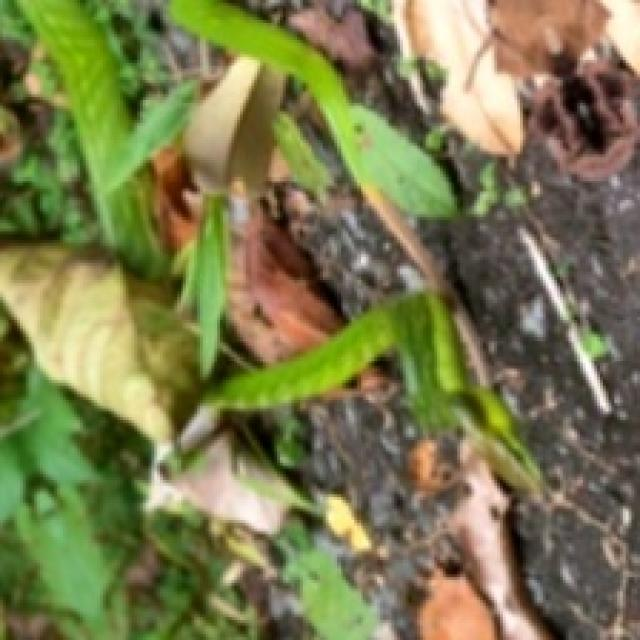red-tailed green ratsnake: (171, 0, 422, 257), (208, 292, 536, 486), (25, 2, 170, 278), (181, 191, 229, 374)
